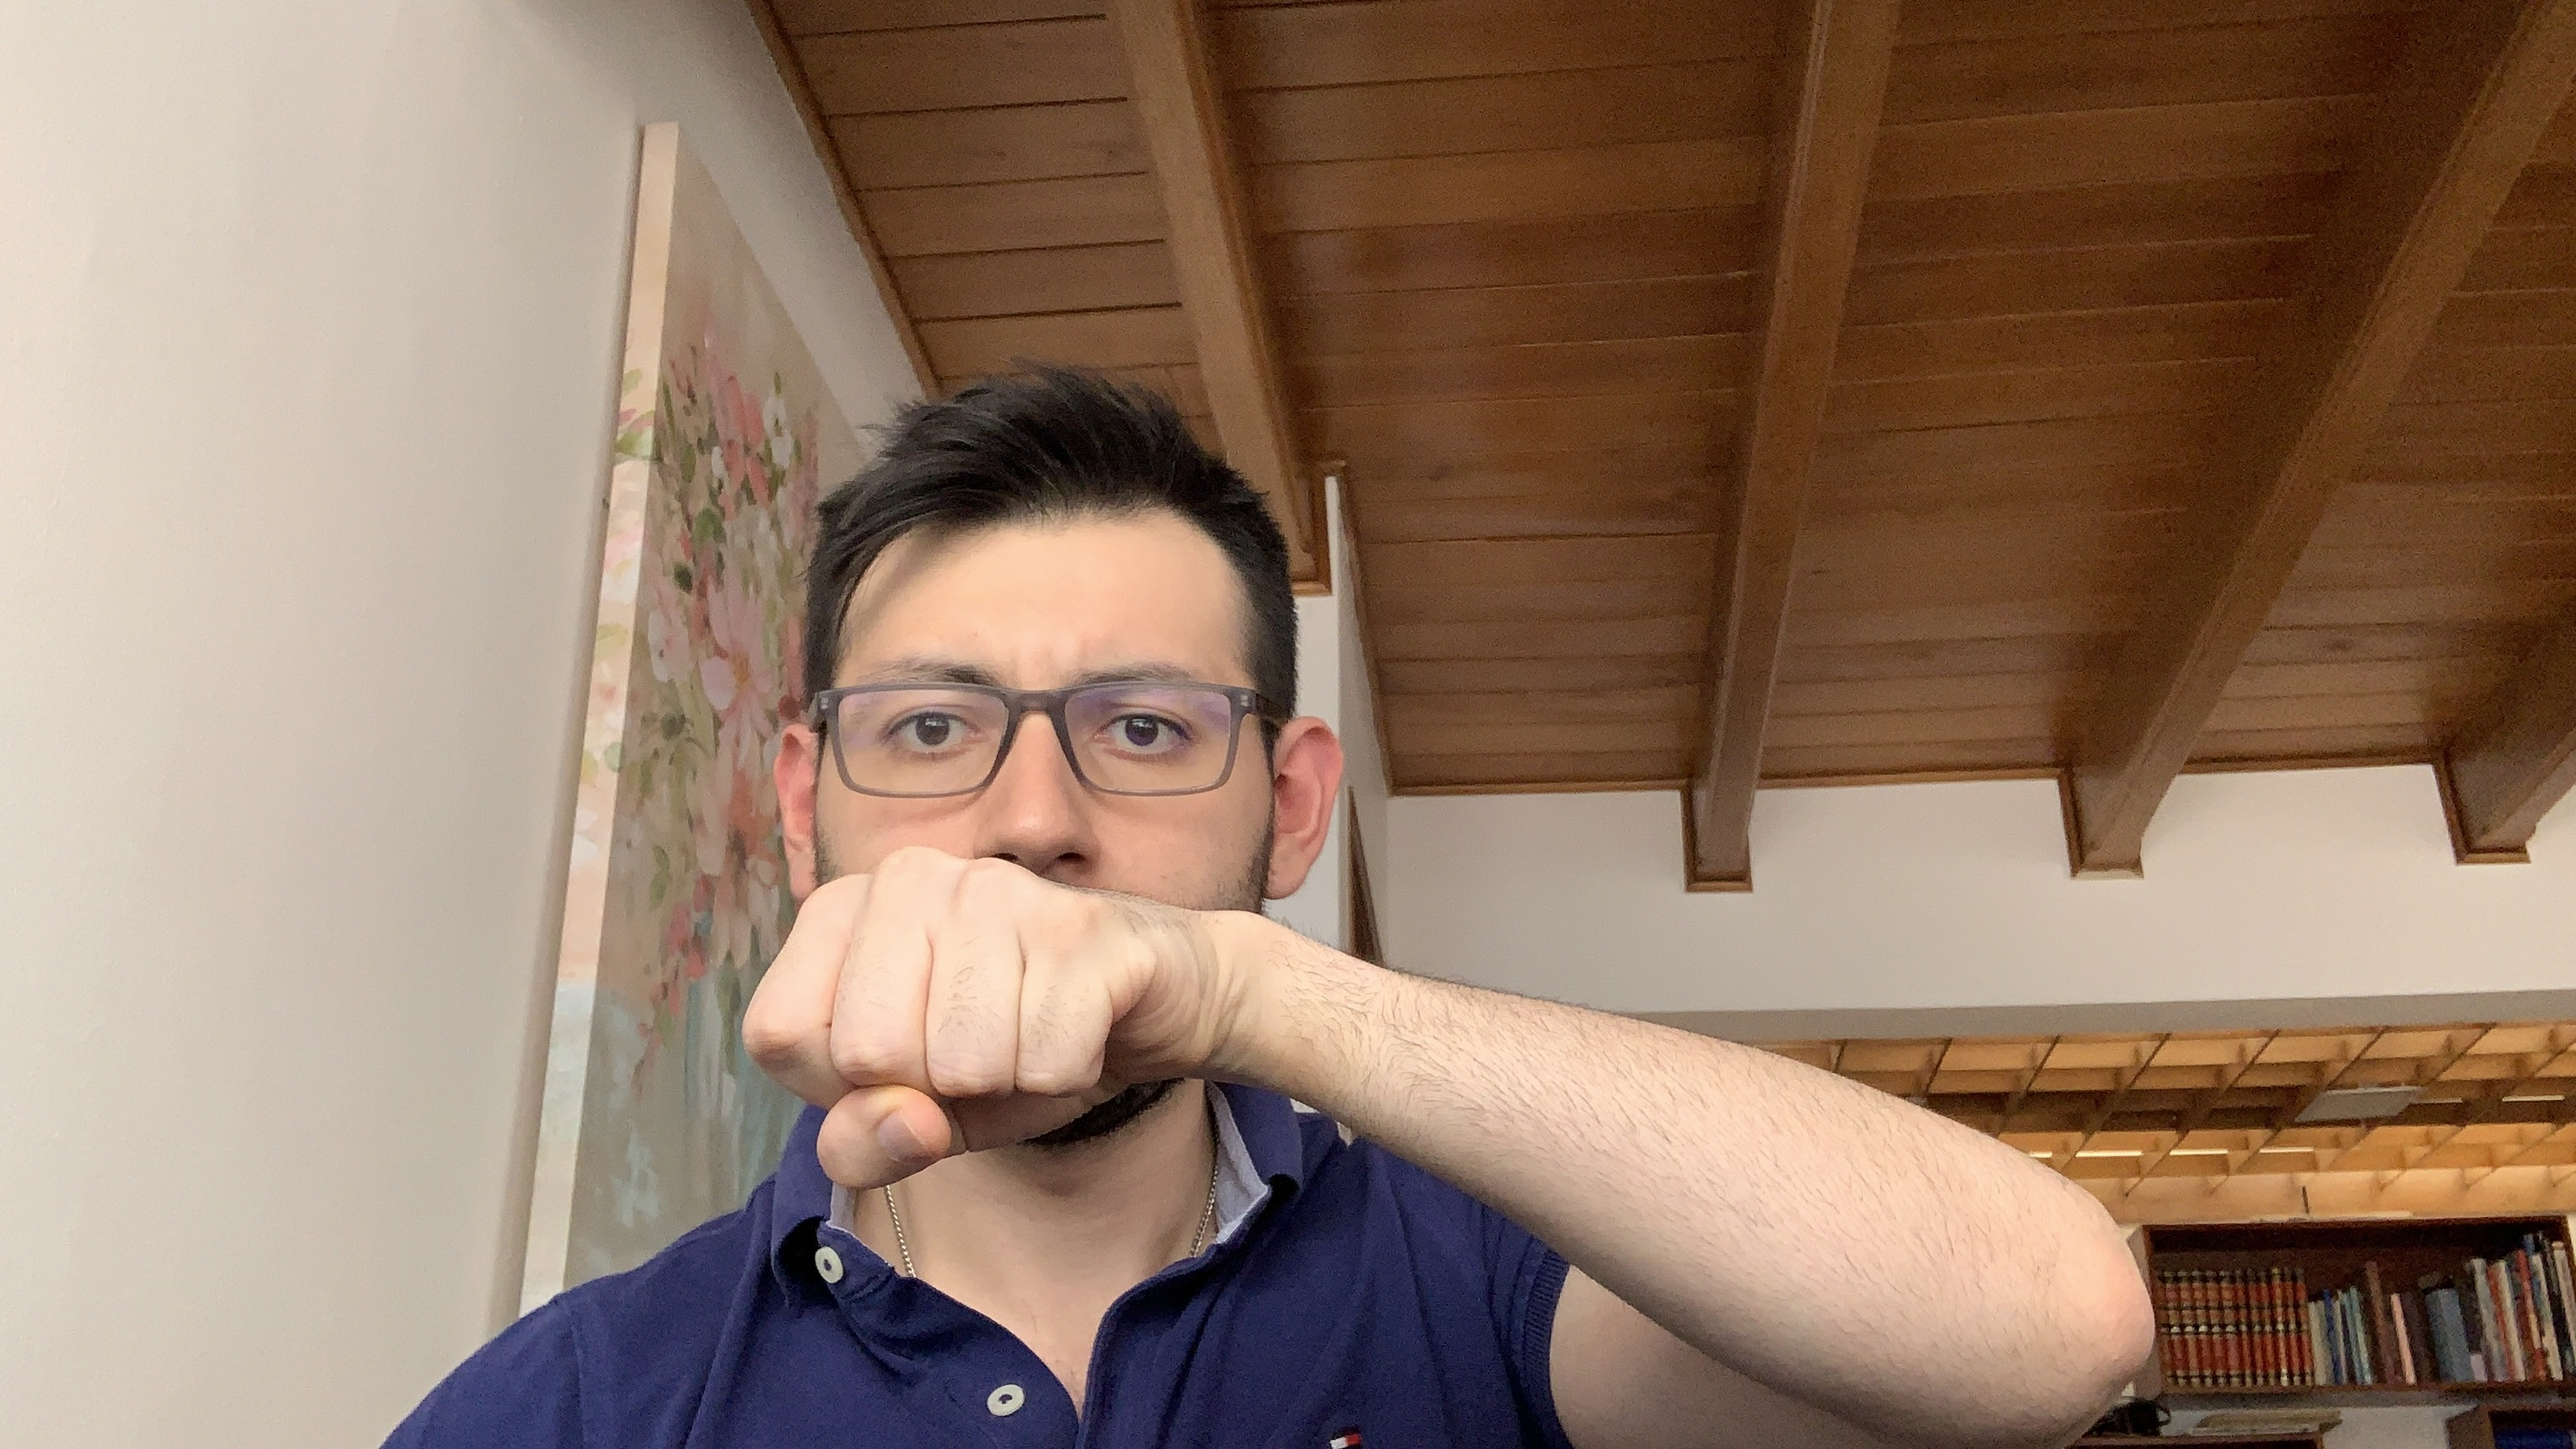Yes: (725, 832, 1249, 1215)
